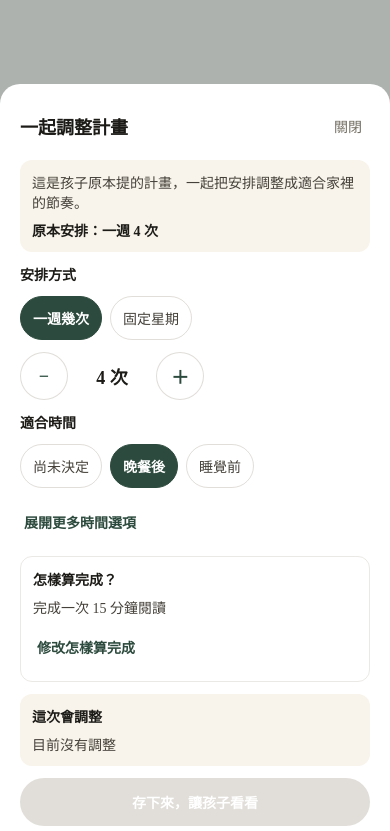
ParentProposalEditSheet › 更多時間和完成標準都採漸進展開，且完整保留合法選項
What coordinates should you click on to do the following:
click the button labelled "展開更多時間選項"
I would click on:
 (80, 522)
Its box is [20,500,140,544].
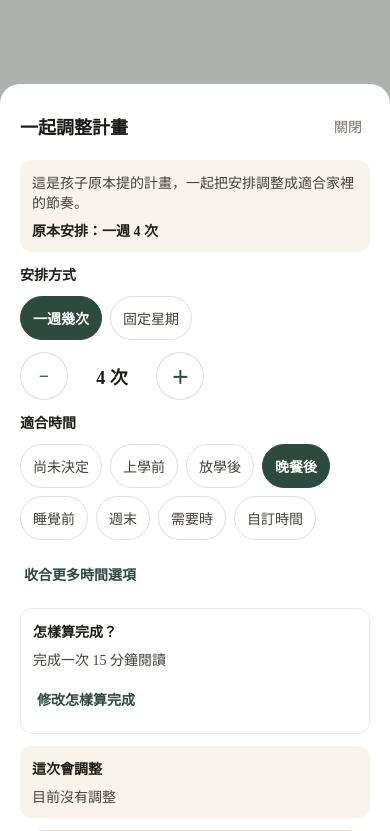
Expected: the text "上學前" is shown, [123,456,165,476]
Expected: the text "放學後" is shown, [199,456,241,476]
Expected: the text "週末" is shown, [109,508,137,528]
What coordinates should you click on to do the following:
click the button labelled "收合更多時間選項"
I would click on:
 (80, 574)
Its box is [20,552,140,596].
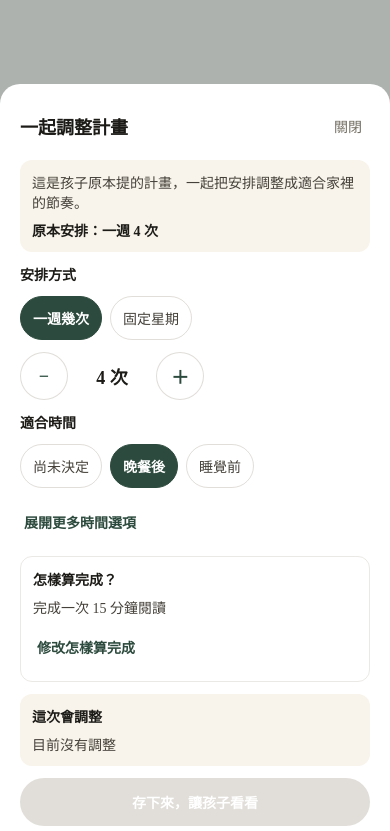
Expected: the button "上學前" is gone
What coordinates should you click on to do the following:
click the button labelled "修改怎樣算完成"
I would click on:
 (86, 647)
Its box is [33,625,139,669].
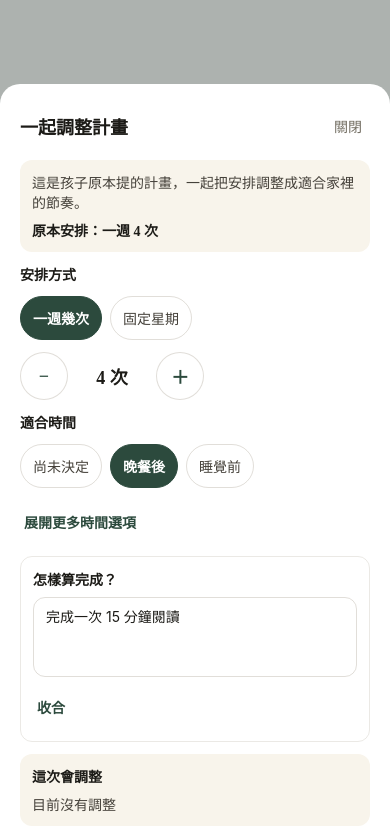
Expected: the text box with test id "proposal-completion-description-input" holds "完成一次 15 分鐘閱讀", [33,597,357,677]
